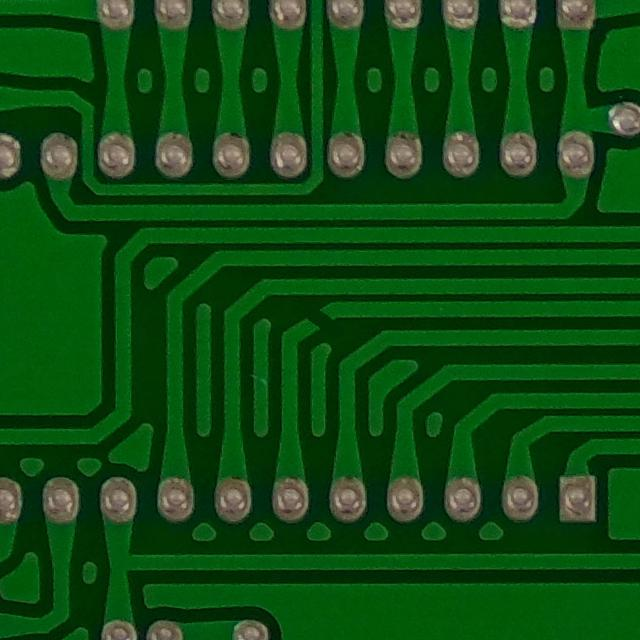open_circuit: (301, 302, 340, 338)
